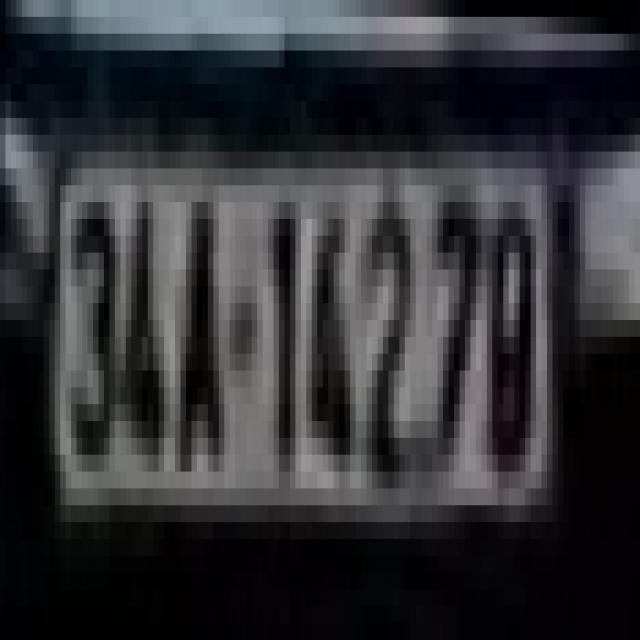0: (487, 186, 536, 488)
1: (260, 194, 304, 463)
2: (361, 186, 416, 488)
3: (61, 168, 120, 472)
4: (301, 186, 355, 488), (120, 186, 170, 488)
7: (427, 186, 481, 488)
A: (170, 168, 230, 488)
